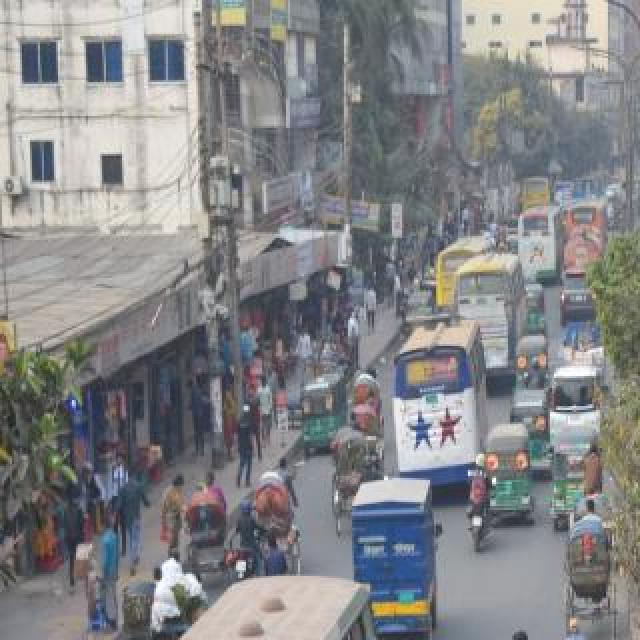bus: (6, 554, 416, 640), (370, 290, 504, 502), (451, 248, 529, 380), (419, 234, 513, 312), (506, 185, 564, 275), (555, 260, 609, 354), (559, 186, 611, 252), (517, 158, 557, 228)
car: (599, 173, 637, 215)
motorbike: (209, 491, 289, 591), (461, 424, 505, 602)
truck: (555, 217, 613, 301)
van: (324, 448, 452, 640), (537, 326, 631, 484), (556, 313, 624, 399), (448, 624, 640, 640)
